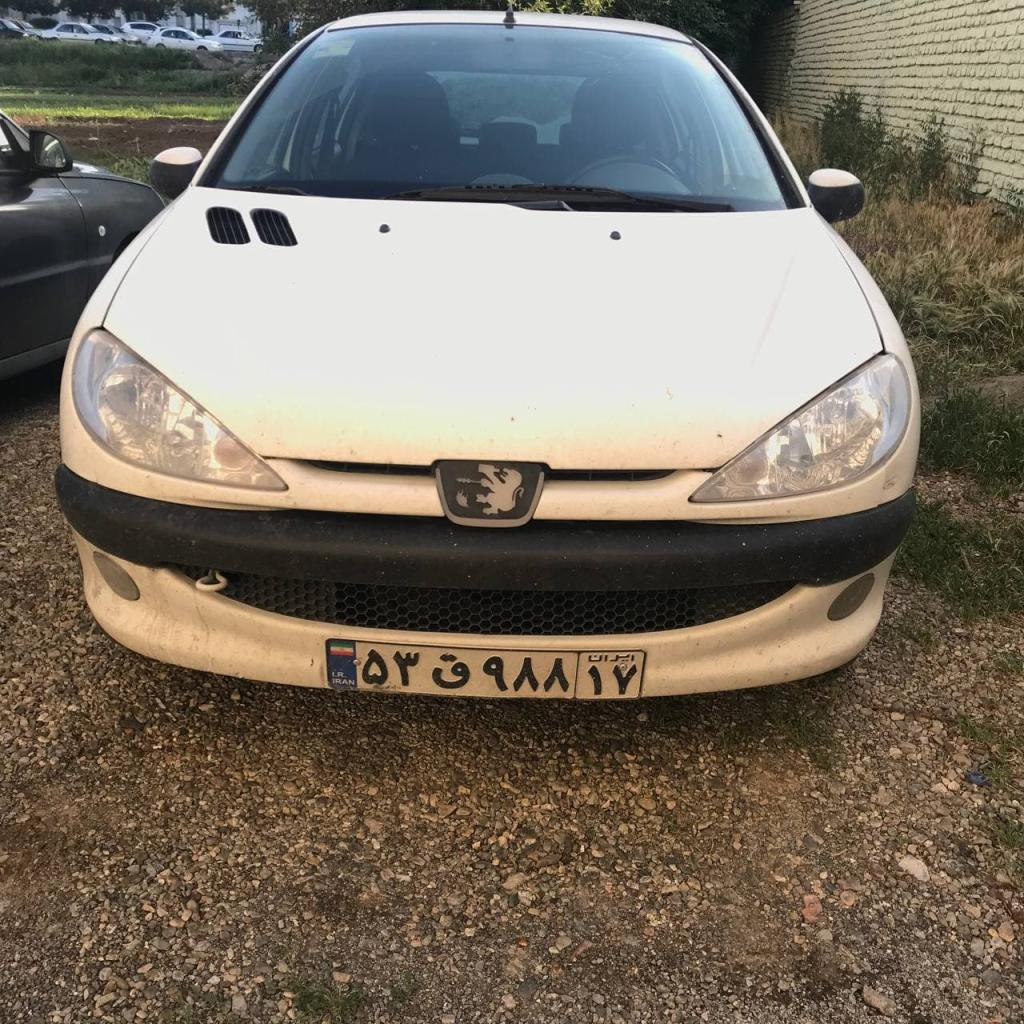Plates: (327, 639, 643, 698)
